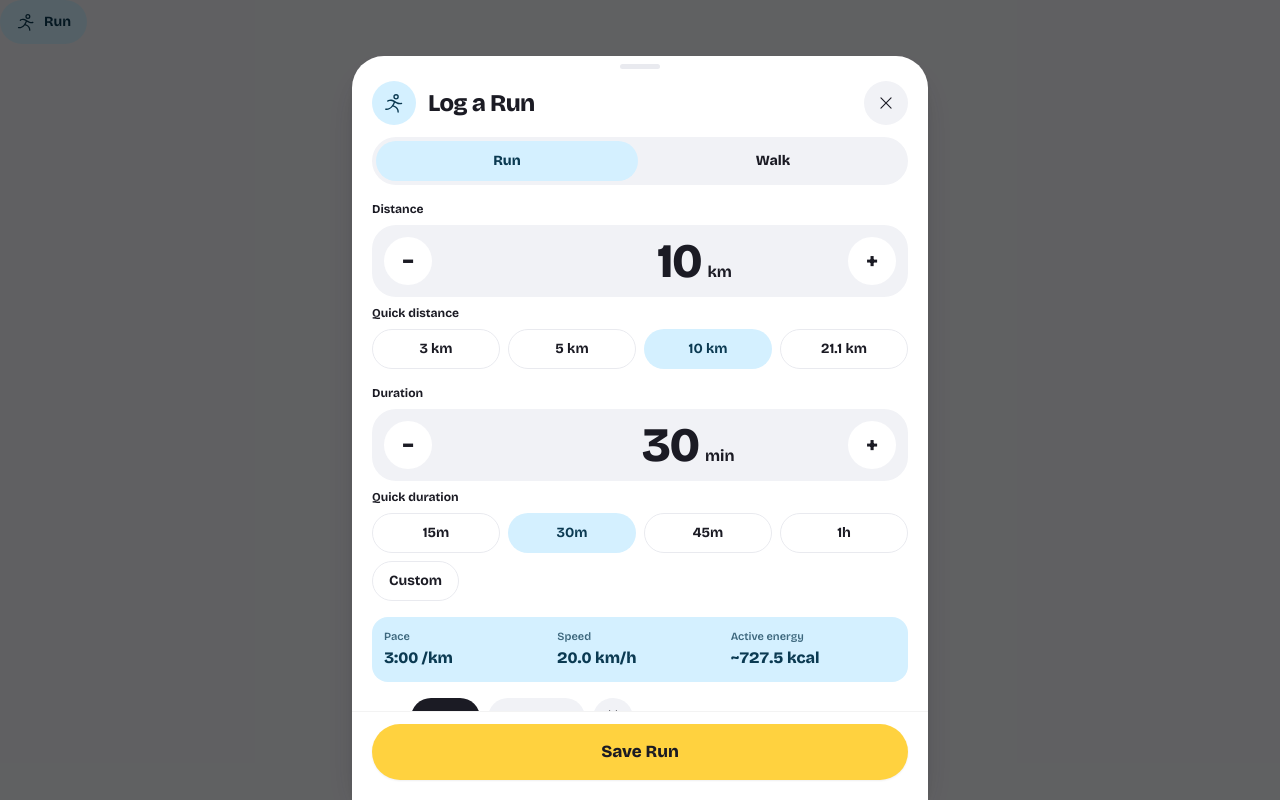
Test: RunLogger › selecting a duration quick pick updates the pace preview
Step 1. Click the button "45m" → coordinates (708, 533), box [644,513,772,553]
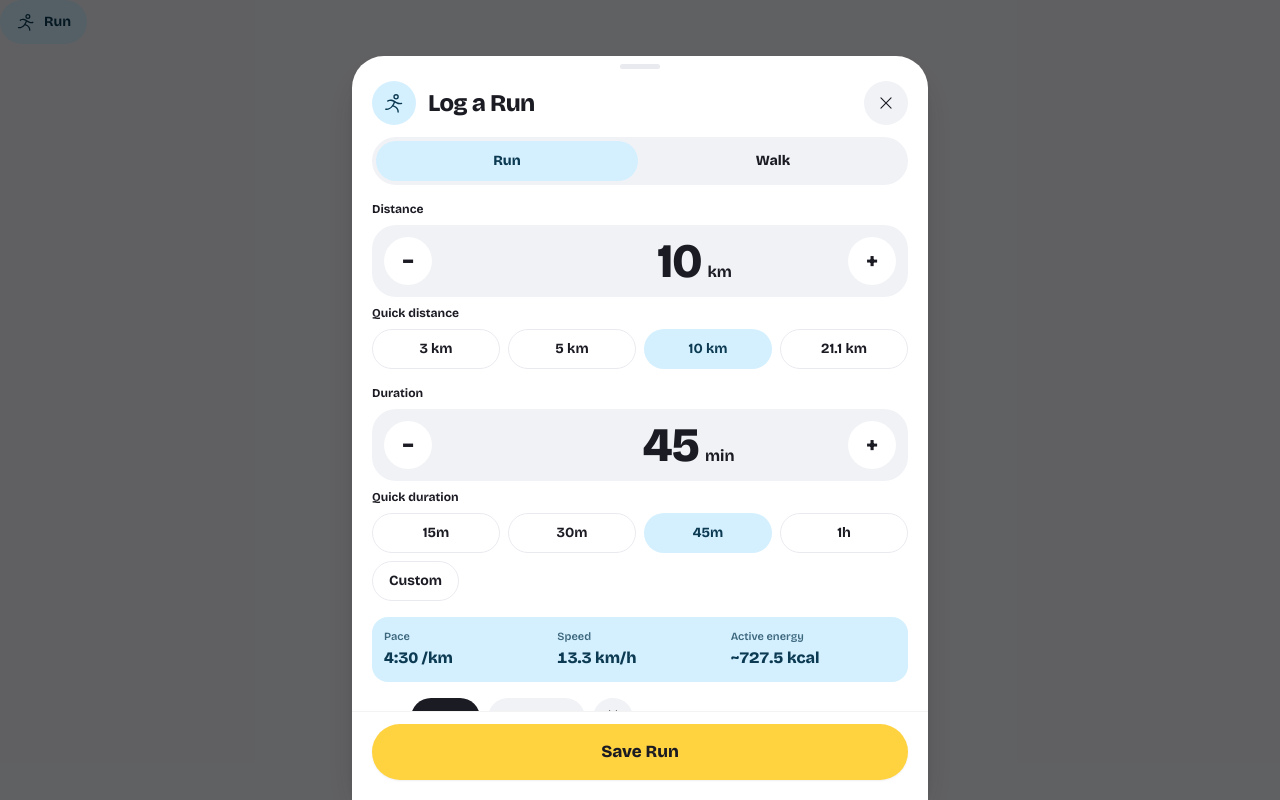
Result: the text "4:30 /km" is shown at [384,648,453,666]
